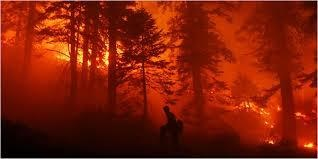fire: (240, 100, 270, 121)
